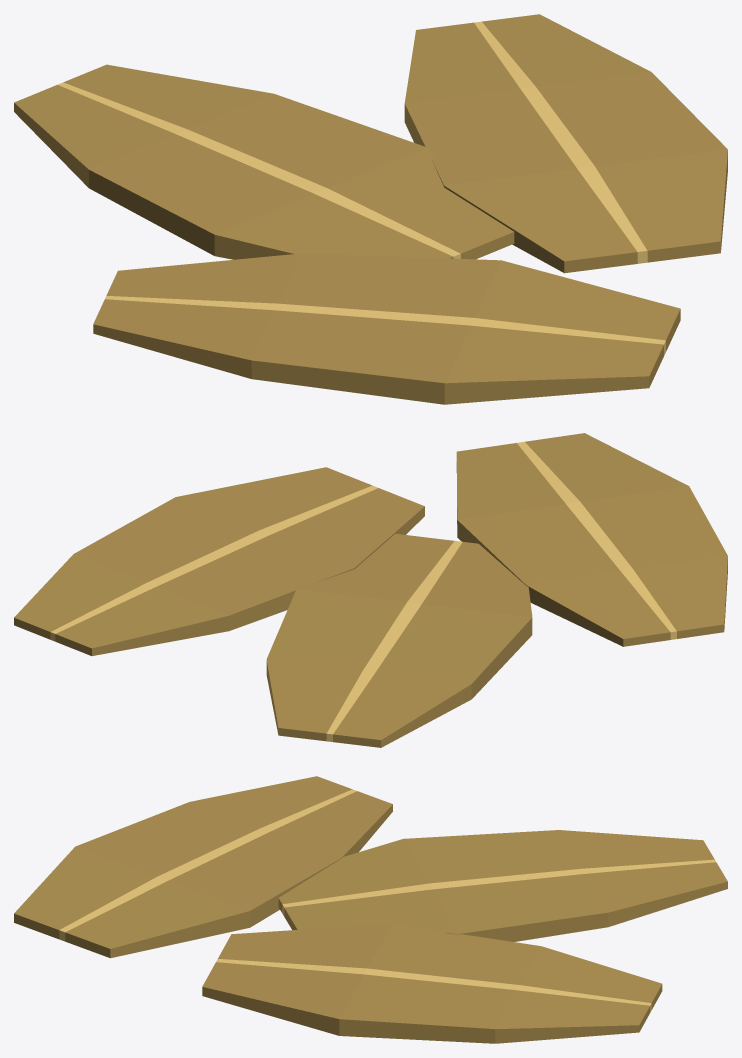
File: Bay Leaf.fbx
The picture shows the model from 3 angles, top to bottom: view 1: azimuth 30°, elevation 25°; view 2: azimuth 150°, elevation 25°; view 3: azimuth 270°, elevation 25°; orthographic projection. The views are drawn at different scales.
Parts seen in each view (by area): view 1: Bay Leaf; view 2: Bay Leaf; view 3: Bay Leaf.
Boxes of the visible parts, x1,y1,x2,y2 form: Bay Leaf: [14, 14, 727, 404]; Bay Leaf: [14, 433, 727, 747]; Bay Leaf: [14, 776, 727, 1043].
Bounding box in the file's own units: 36.59 × 1.12 × 43.02.
